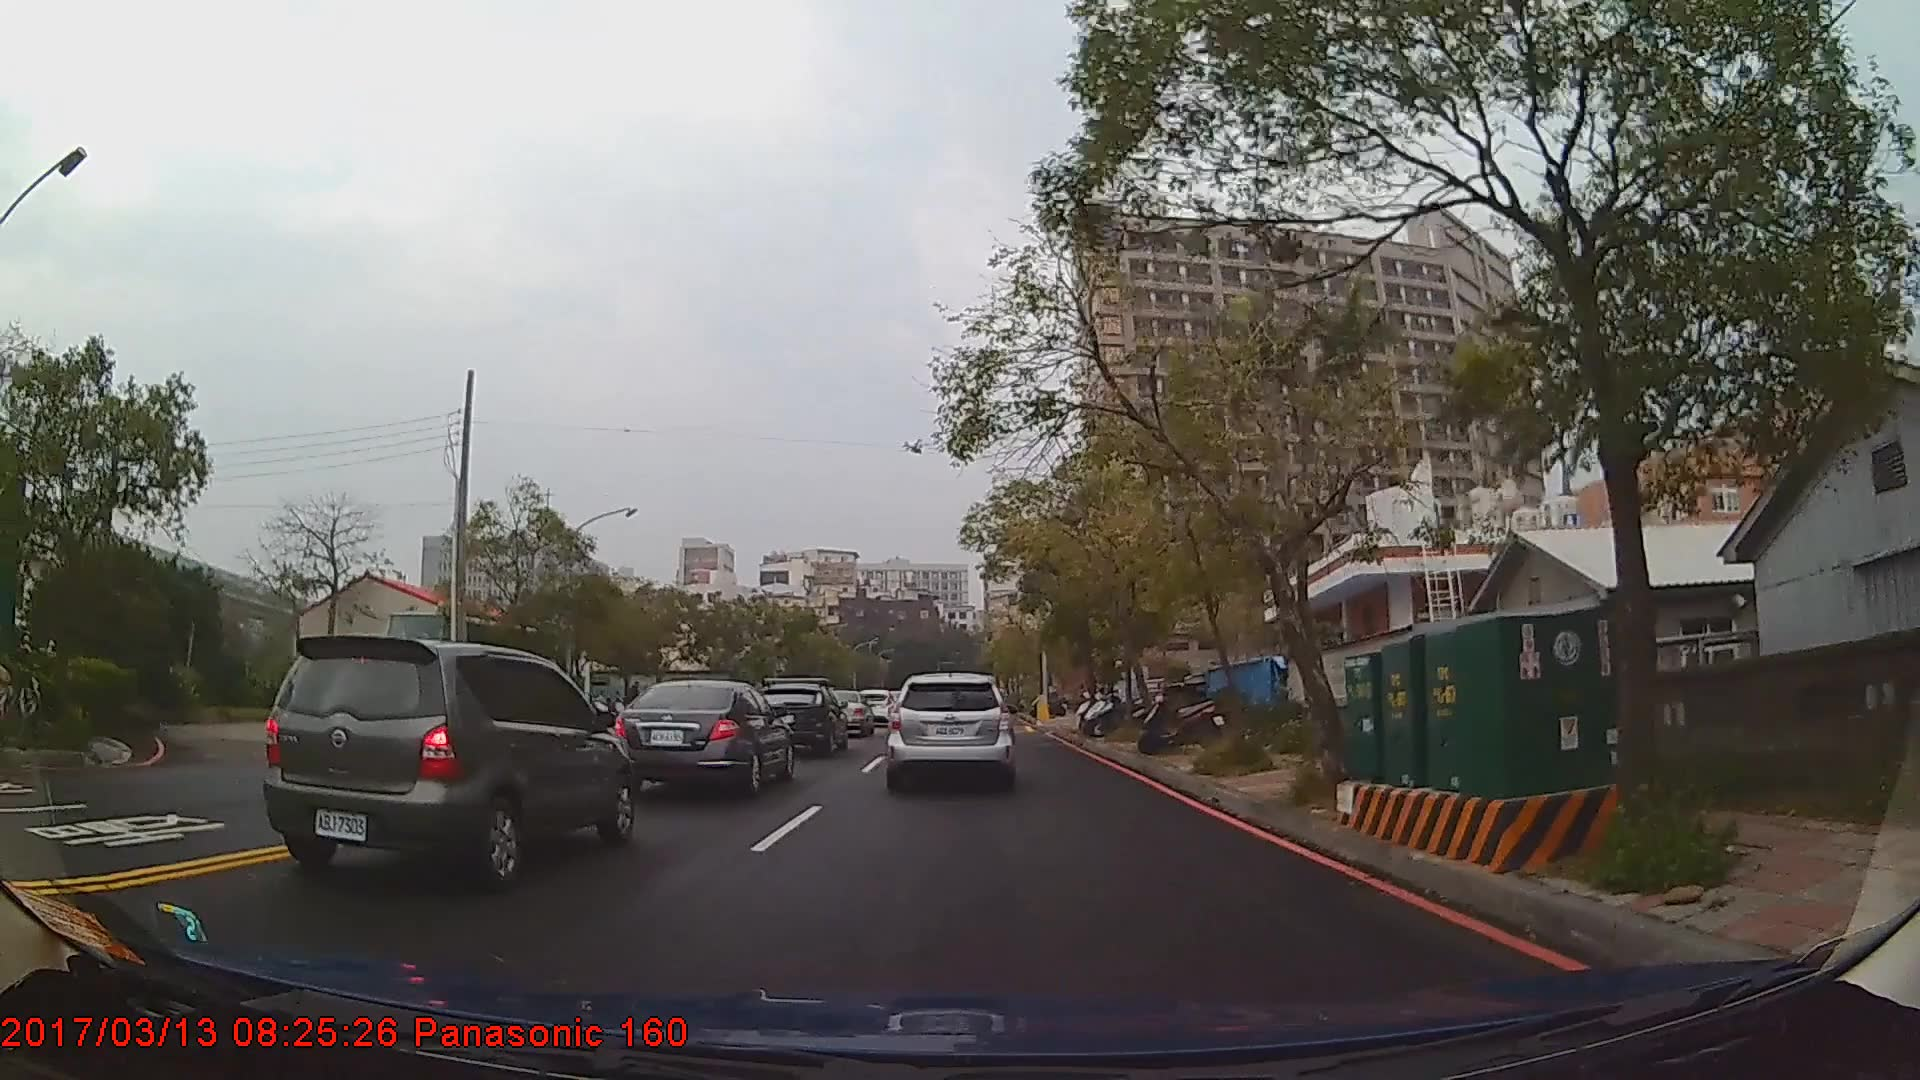vehicle: (260, 634, 633, 881), (609, 675, 796, 794), (885, 669, 1015, 786), (750, 682, 847, 756), (818, 687, 872, 735)
